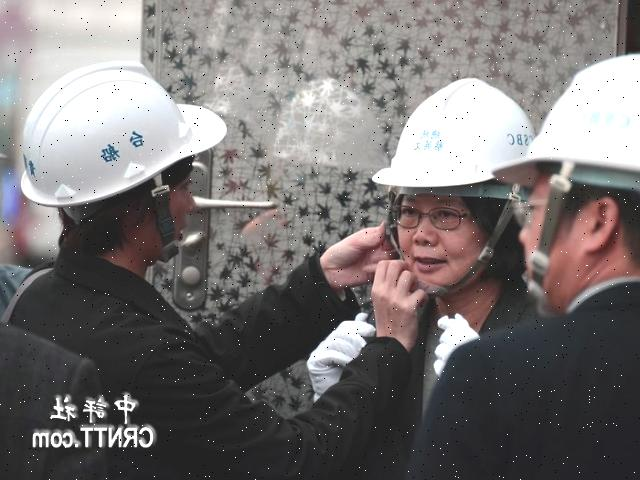Helmet: (18, 55, 231, 219), (369, 72, 536, 200), (523, 51, 640, 193)
